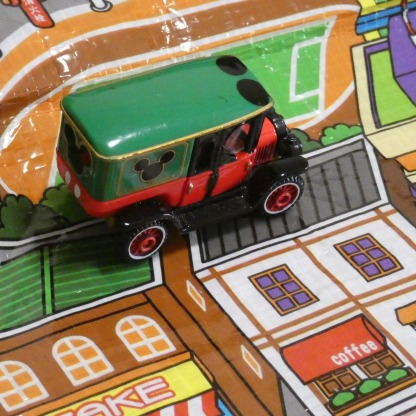car: (44, 58, 305, 261)
